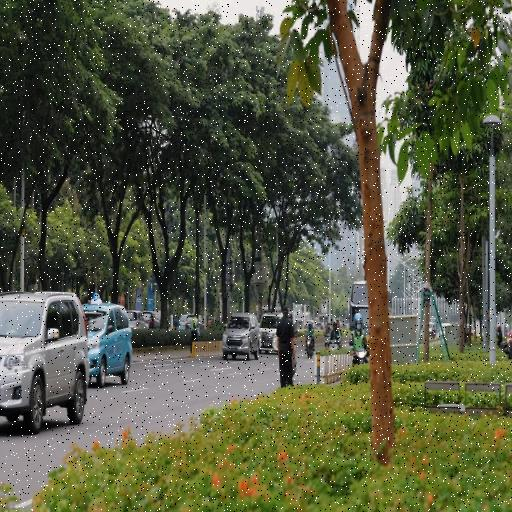Helmet: (354, 312, 362, 330), (309, 323, 312, 327)
Motor: (350, 312, 369, 364), (353, 348, 369, 364), (500, 337, 511, 359), (305, 336, 314, 358), (328, 336, 340, 350)
